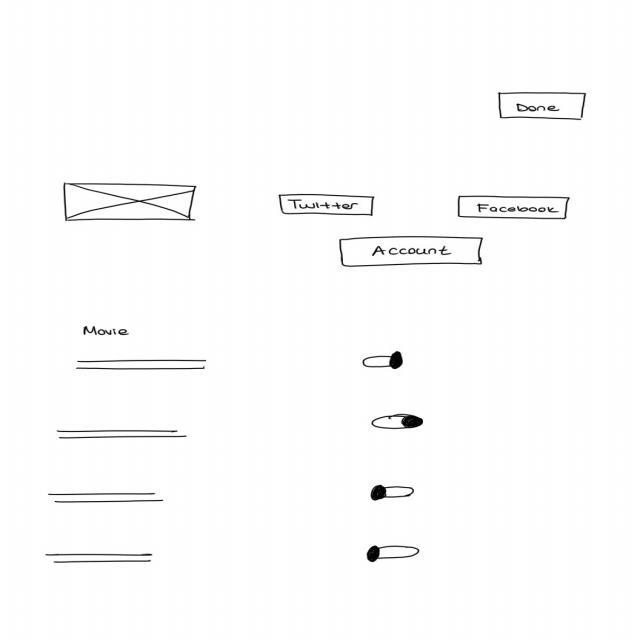button: (338, 235, 484, 268), (456, 194, 570, 220), (497, 90, 587, 121), (278, 193, 376, 216)
image: (62, 182, 196, 222)
label: (80, 324, 130, 336)
textbox: (47, 489, 171, 506), (56, 426, 190, 441), (75, 358, 209, 372), (46, 550, 155, 566)
toggle: (364, 542, 422, 564), (370, 412, 425, 432), (362, 349, 404, 372), (369, 483, 417, 502)
